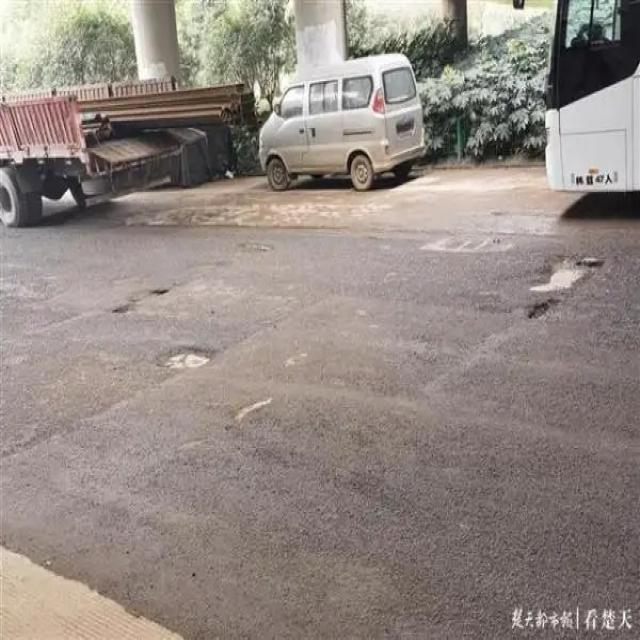Pothole: (527, 260, 599, 294), (112, 282, 170, 317), (156, 346, 214, 372), (529, 303, 550, 320)
